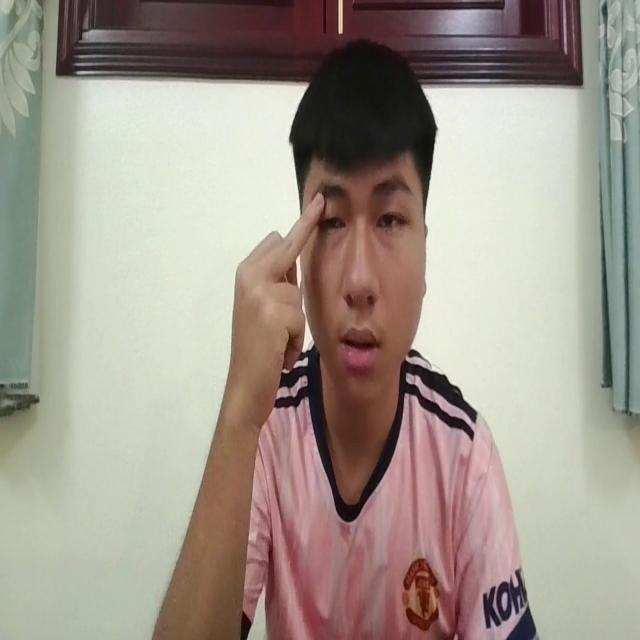student: (149, 28, 530, 640)
